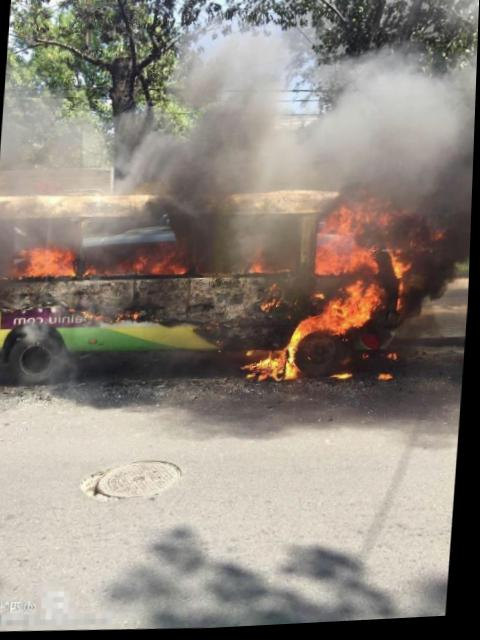fire: (341, 287, 384, 330), (324, 208, 363, 253), (319, 250, 378, 279), (32, 247, 80, 278), (148, 246, 191, 276), (254, 350, 288, 382), (288, 335, 304, 381), (321, 305, 341, 334), (392, 258, 413, 285), (303, 320, 322, 338), (399, 284, 407, 314), (252, 262, 269, 274), (337, 375, 357, 383), (383, 374, 397, 382), (390, 355, 402, 364)
